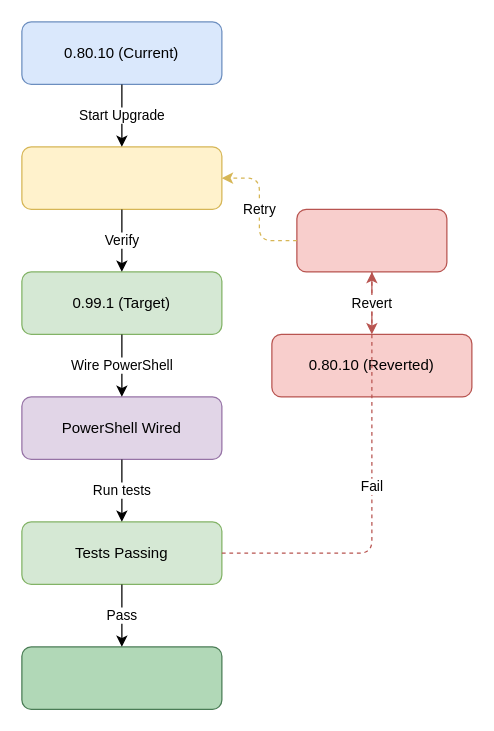
This 494x731 diagram has some shape labels left out. Each missing label, with the box of its shape:
Rollback: (296, 208, 447, 272)
UAT Verified: (21, 646, 222, 709)
Upgrading: (21, 146, 222, 209)
